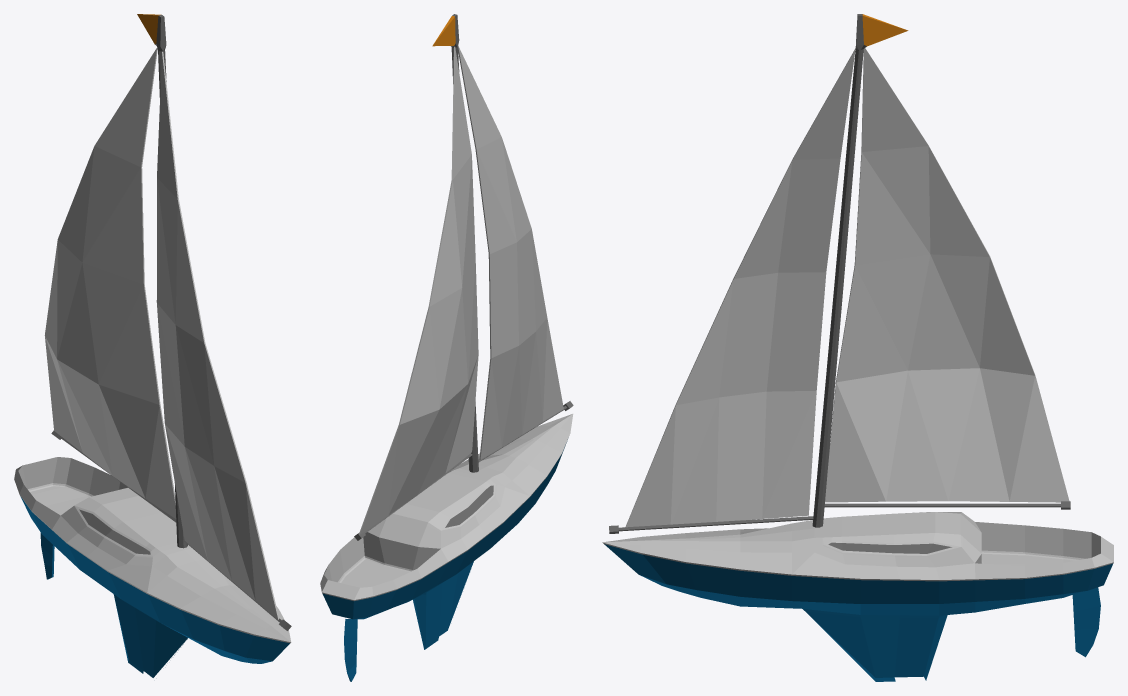
Rendered from sail.glb.
3 renders of one model, left to right at view 1: azimuth 30°, elevation 25°; view 2: azimuth 150°, elevation 25°; view 3: azimuth 270°, elevation 25°, orthographic. The views are drawn at different scales.
Visible parts, largest first — view 1: Sailboat; view 2: Sailboat; view 3: Sailboat.
Part boxes in pixels (x1=…): Sailboat: x1=14, y1=14, x2=291, y2=677; Sailboat: x1=320, y1=14, x2=573, y2=681; Sailboat: x1=602, y1=14, x2=1113, y2=681.
Bounding box in the file's own units: 7.78 × 45.72 × 31.8.
Materials: 1 (1 with a texture image).
